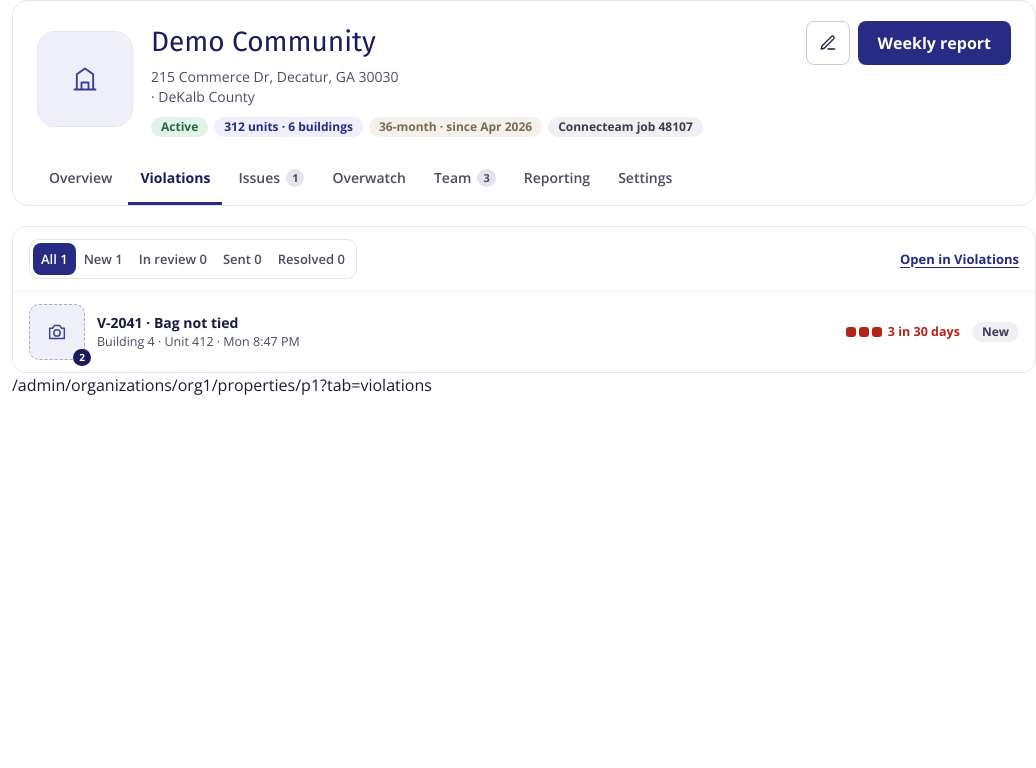
PropertyDetailPage › lists the property's violations, reports and Overwatch units in their tabs
This screenshot has width=1036, height=768.
Click the tab "Issues 1". click: click(271, 179)
box: [226,153,316,205]
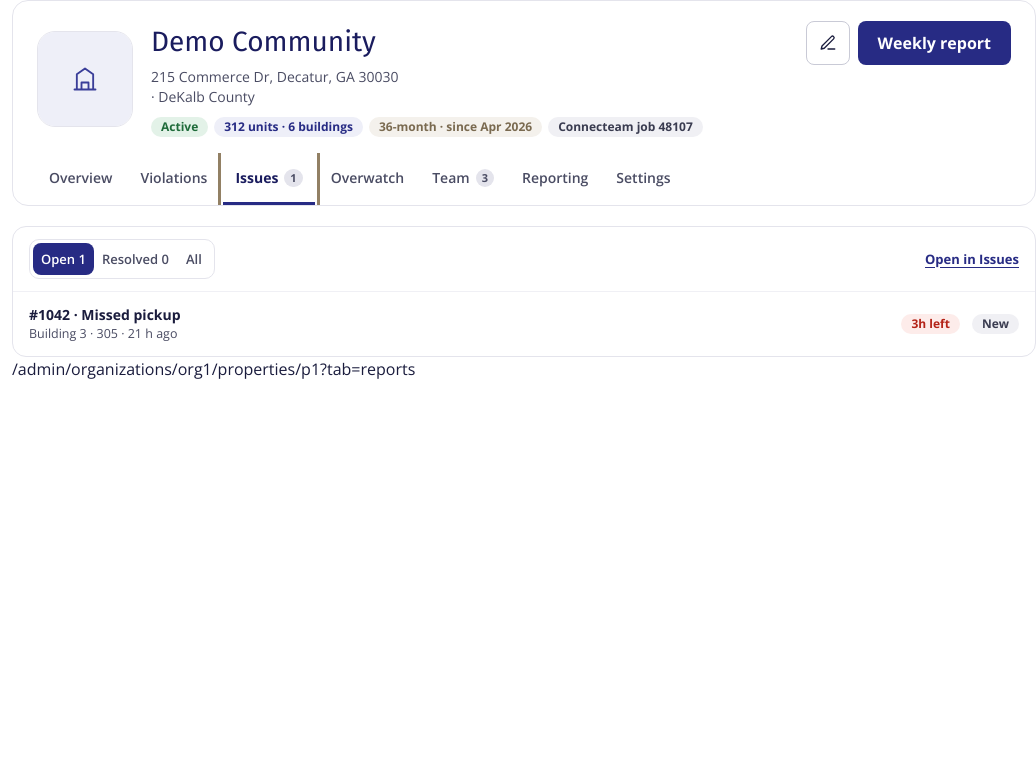
Result: the link "#1042" has attribute href="/admin/issues/r1" at [29,305,1019,342]
Click the tab "Overwatch". click: click(367, 179)
box: [319,153,416,205]
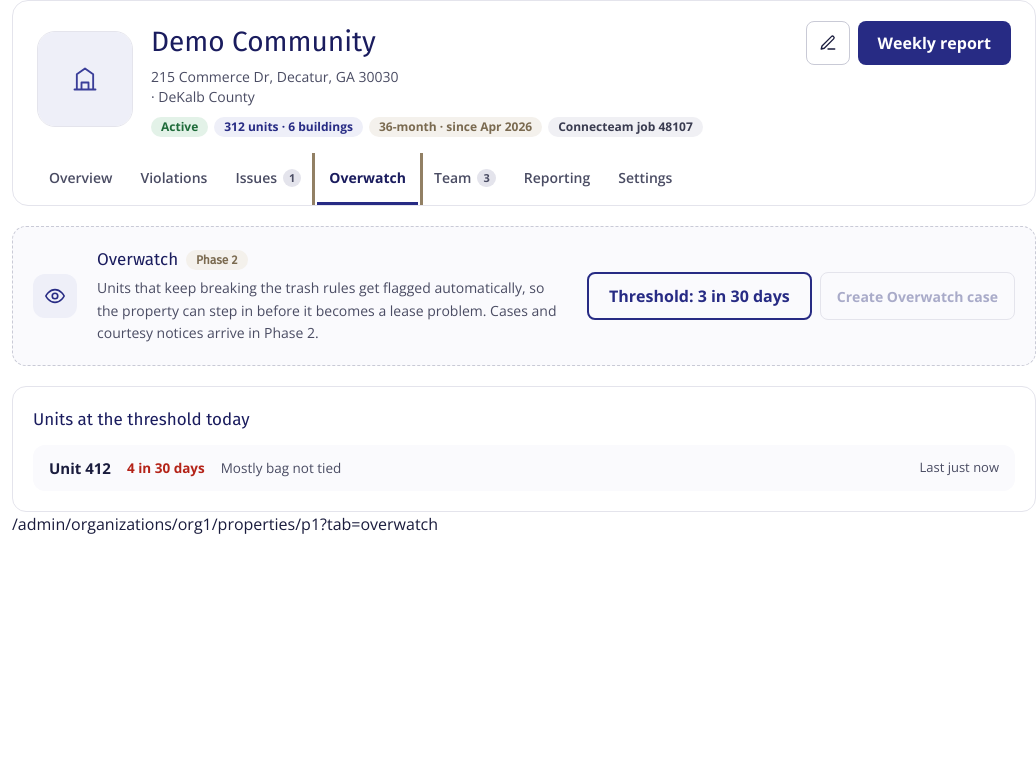
Result: the text "Unit 412" is shown at [49,456,111,479]
